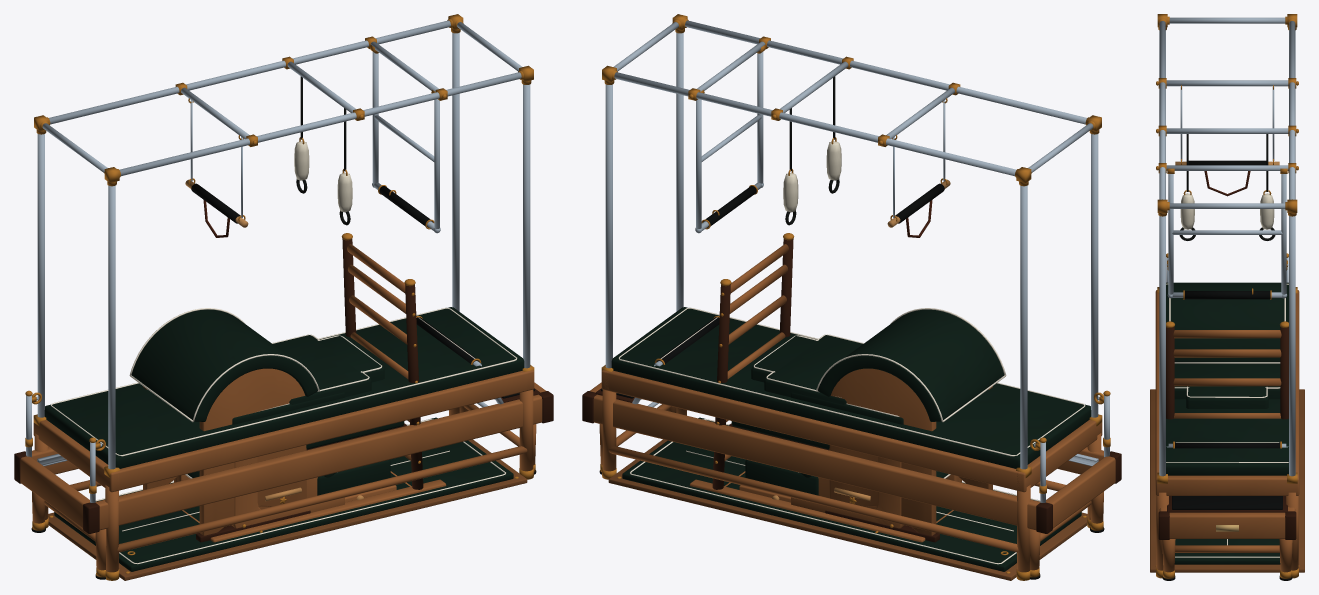
The model's file is apparatus-dynamic-parts-v1.glb.
3 renders of one model, left to right at view 1: azimuth 30°, elevation 25°; view 2: azimuth 150°, elevation 25°; view 3: azimuth 270°, elevation 25°, orthographic. The views are drawn at different scales.
Parts seen in each view (by area): view 1: pilates_apparatus_packed_v1; view 2: pilates_apparatus_packed_v1; view 3: pilates_apparatus_packed_v1.
Boxes of the visible parts, left/top/right/bottom form: pilates_apparatus_packed_v1: left=14, top=14, right=553, bottom=580; pilates_apparatus_packed_v1: left=582, top=14, right=1121, bottom=580; pilates_apparatus_packed_v1: left=1150, top=14, right=1304, bottom=580.
Size of the model in its own units: 2.36 by 1.97 by 0.74.
Materials: 1 (1 with a texture image).
